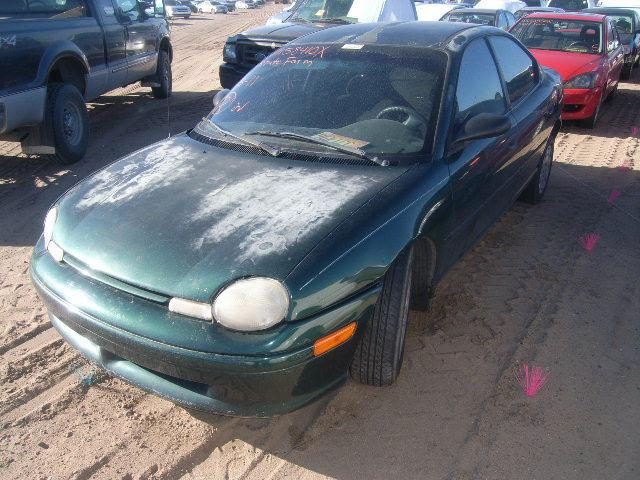Car: (19, 1, 602, 418), (492, 1, 633, 154)
